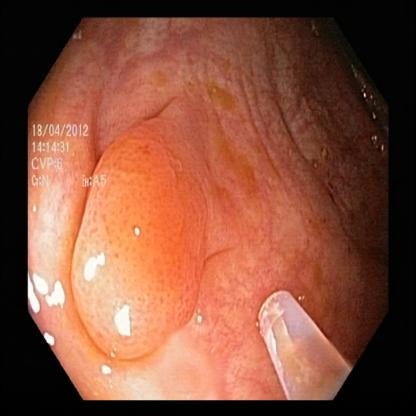Labels: (26, 113, 112, 218)
Polyps: (91, 146, 192, 344)
